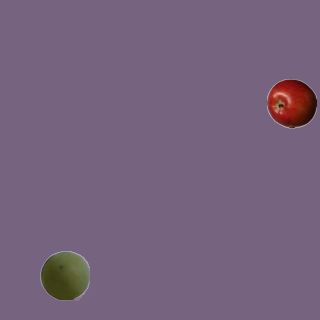Apple Braeburn: (266, 78, 316, 128)
Grape White 4: (39, 250, 89, 300)
